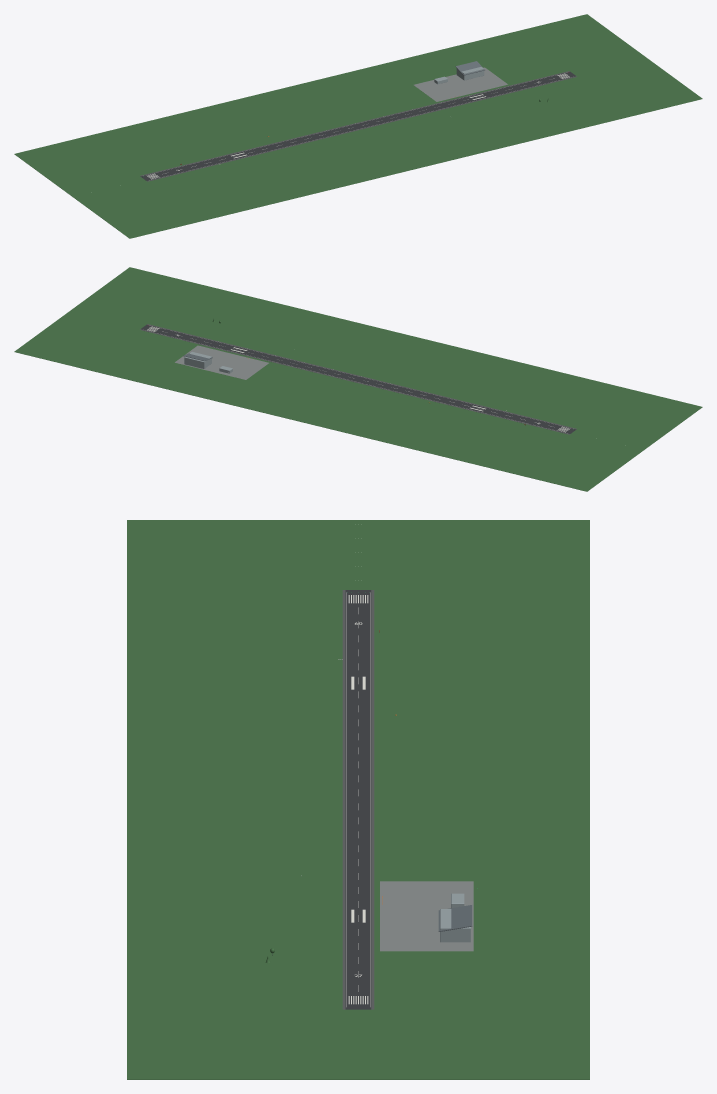
The model's file is field-kit.glb.
3 renders of one model, top to bottom at view 1: azimuth 30°, elevation 25°; view 2: azimuth 150°, elevation 25°; view 3: azimuth 270°, elevation 25°, orthographic. The views are drawn at different scales.
Parts seen in each view (by area): view 1: GrassField, Runway, Apron, RunwayShoulder_R, RunwayShoulder_L; view 2: GrassField, Runway, Apron, RunwayShoulder_L, RunwayShoulder_R; view 3: GrassField, Runway, Apron, RunwayShoulder_L, RunwayShoulder_R.
Part boxes in pixels (x1,y1,x2,y2): GrassField: (14,14,702,238); Runway: (140,71,575,180); Apron: (414,67,507,101); RunwayShoulder_R: (147,76,576,181); RunwayShoulder_L: (140,71,569,176); GrassField: (14,267,702,491); Runway: (141,324,576,433); Apron: (175,345,268,379); RunwayShoulder_L: (140,329,569,434); RunwayShoulder_R: (147,324,576,429); GrassField: (127,520,589,1079); Runway: (345,590,371,1009); Apron: (380,881,473,951); RunwayShoulder_L: (371,590,374,1009); RunwayShoulder_R: (342,590,345,1009).
Size of the model in its own units: 1200 by 17.79 by 420.
